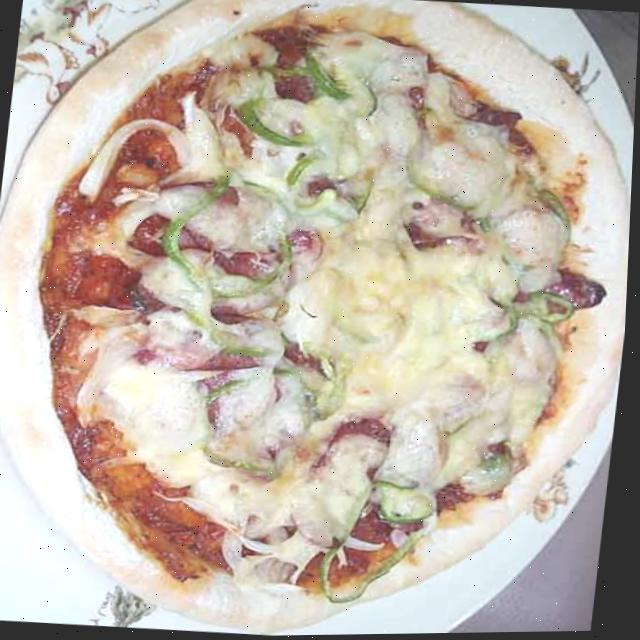汉堡快餐: (0, 0, 640, 607)
